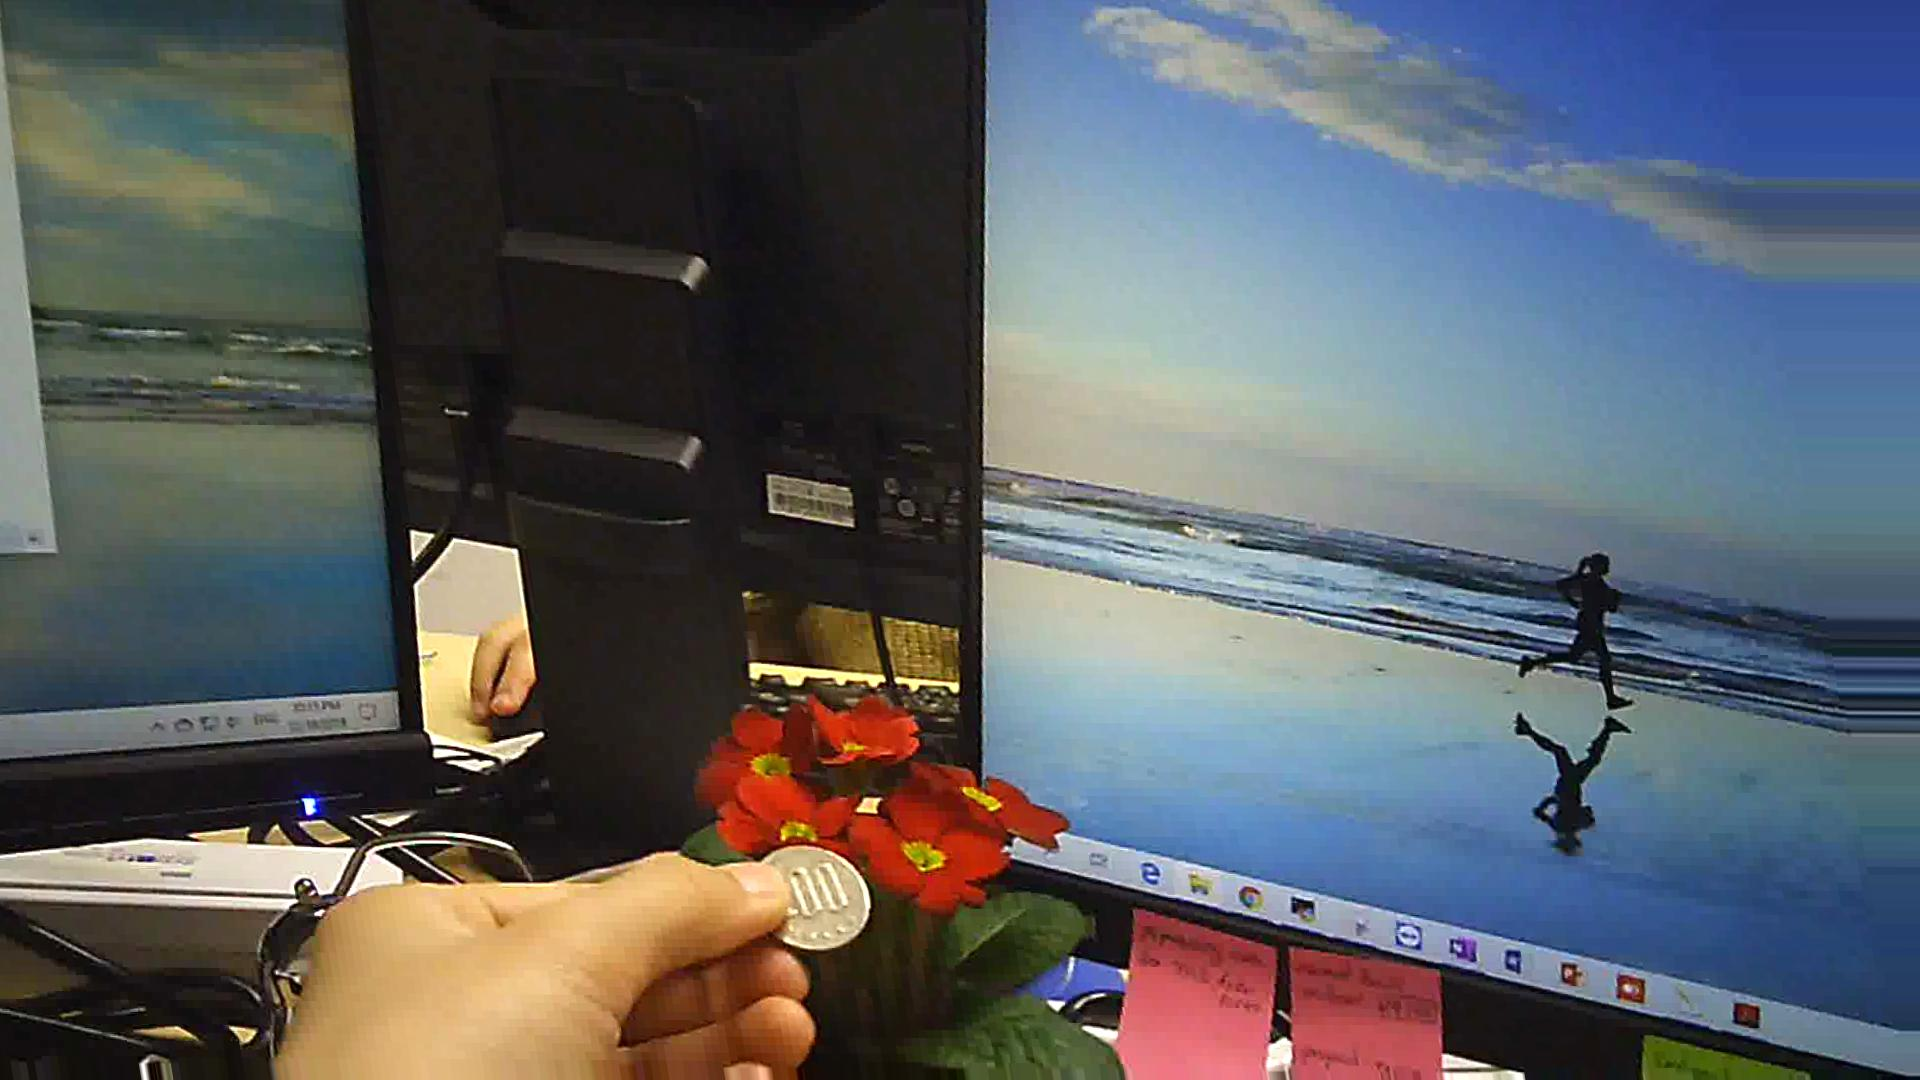100 Yen: (735, 837, 861, 953)
